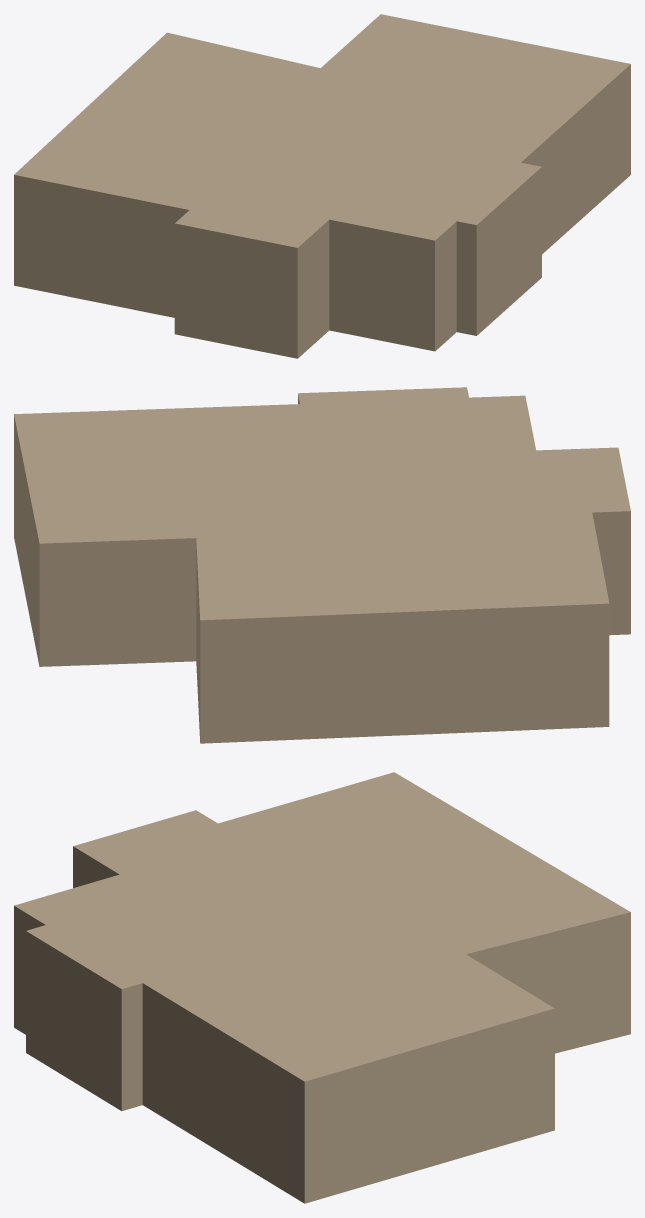
The model's file is bld_49798374.dae.
3 views of the same model, one above another, from view 1: azimuth 30°, elevation 25°; view 2: azimuth 150°, elevation 25°; view 3: azimuth 270°, elevation 25° (orthographic). The views are drawn at different scales.
Visible parts, largest first — view 1: Royal Mail; view 2: Royal Mail; view 3: Royal Mail.
Boxes of the visible parts, bbox=[...] form: Royal Mail: bbox=[14, 14, 630, 358]; Royal Mail: bbox=[14, 387, 630, 743]; Royal Mail: bbox=[14, 772, 630, 1203].
Size of the model in its own units: 43.52 by 36.65 by 8.
